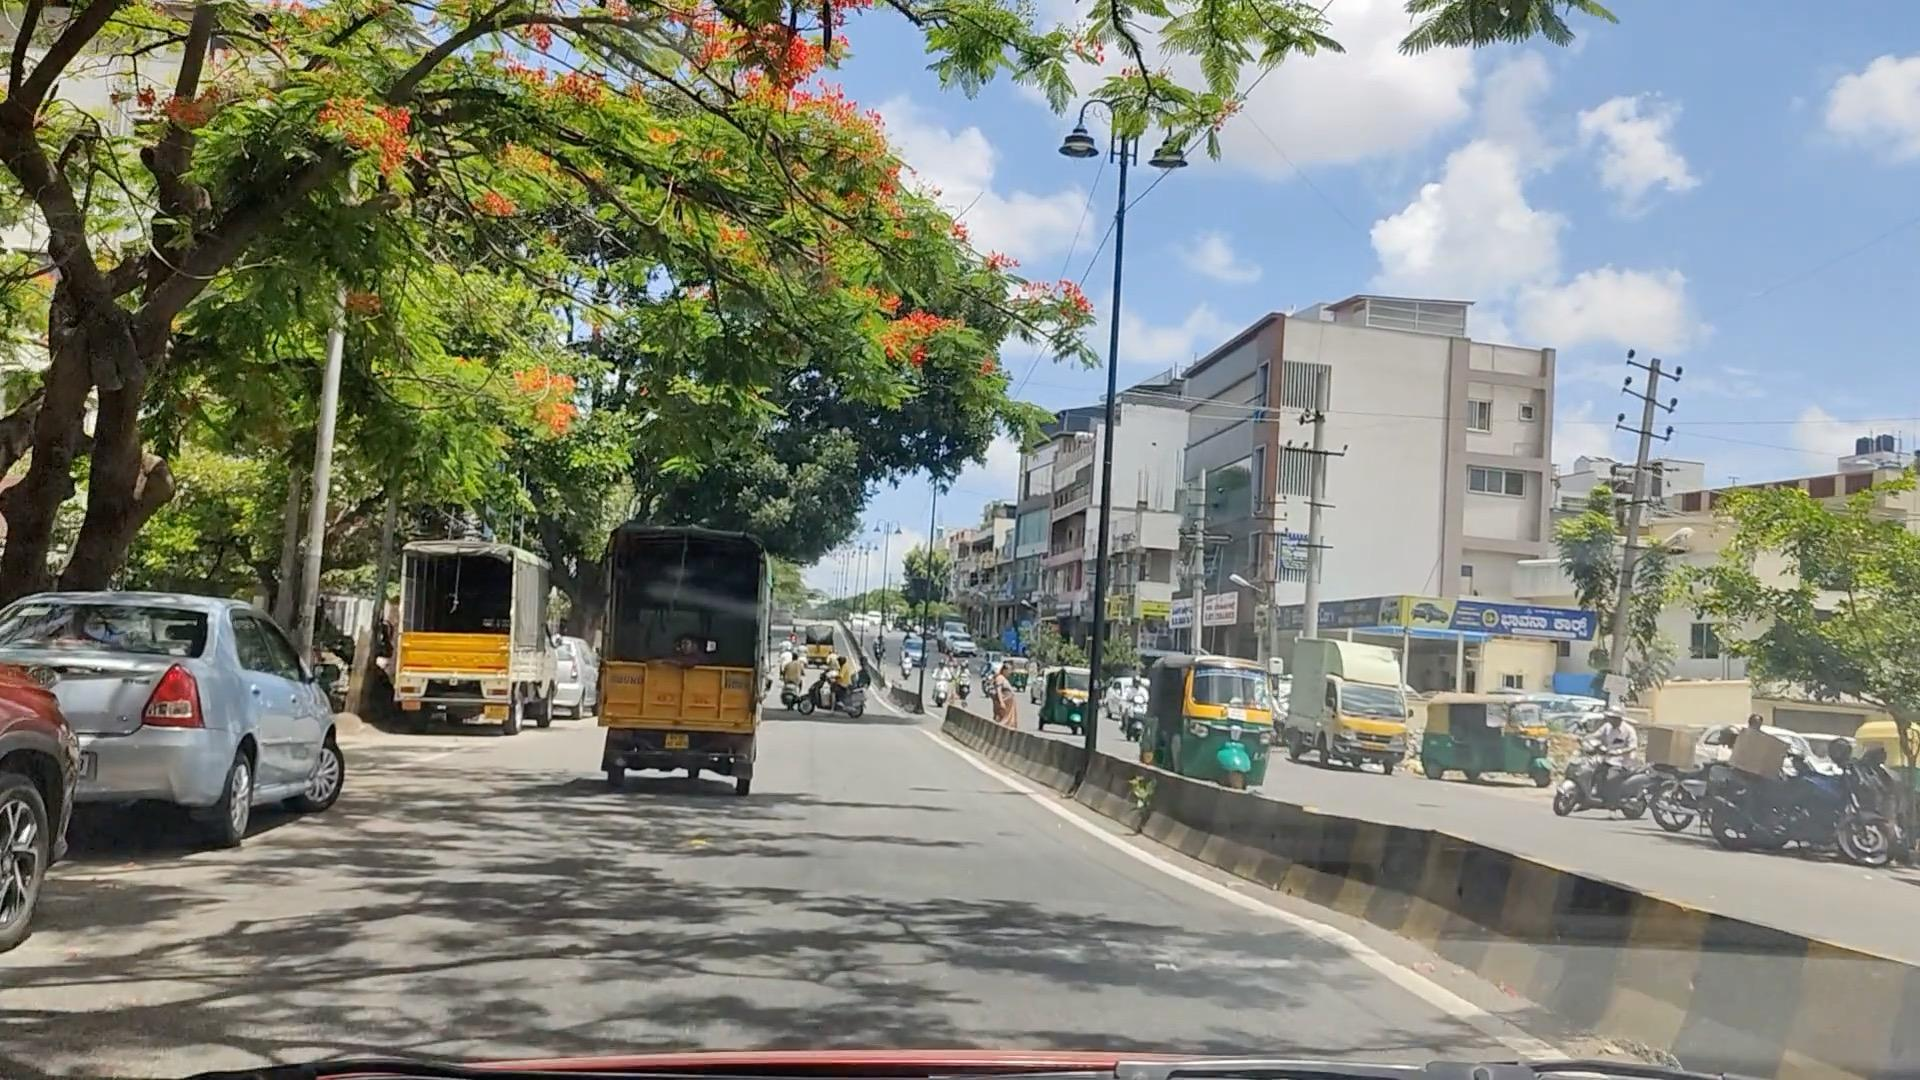HMV: (587, 517, 764, 790), (404, 543, 535, 707)
